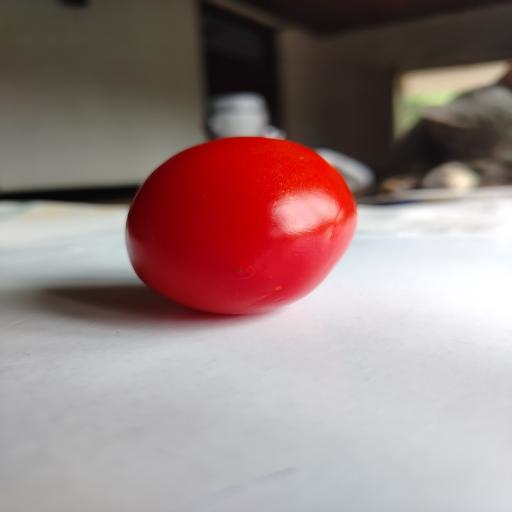ripe: (126, 137, 356, 314)
